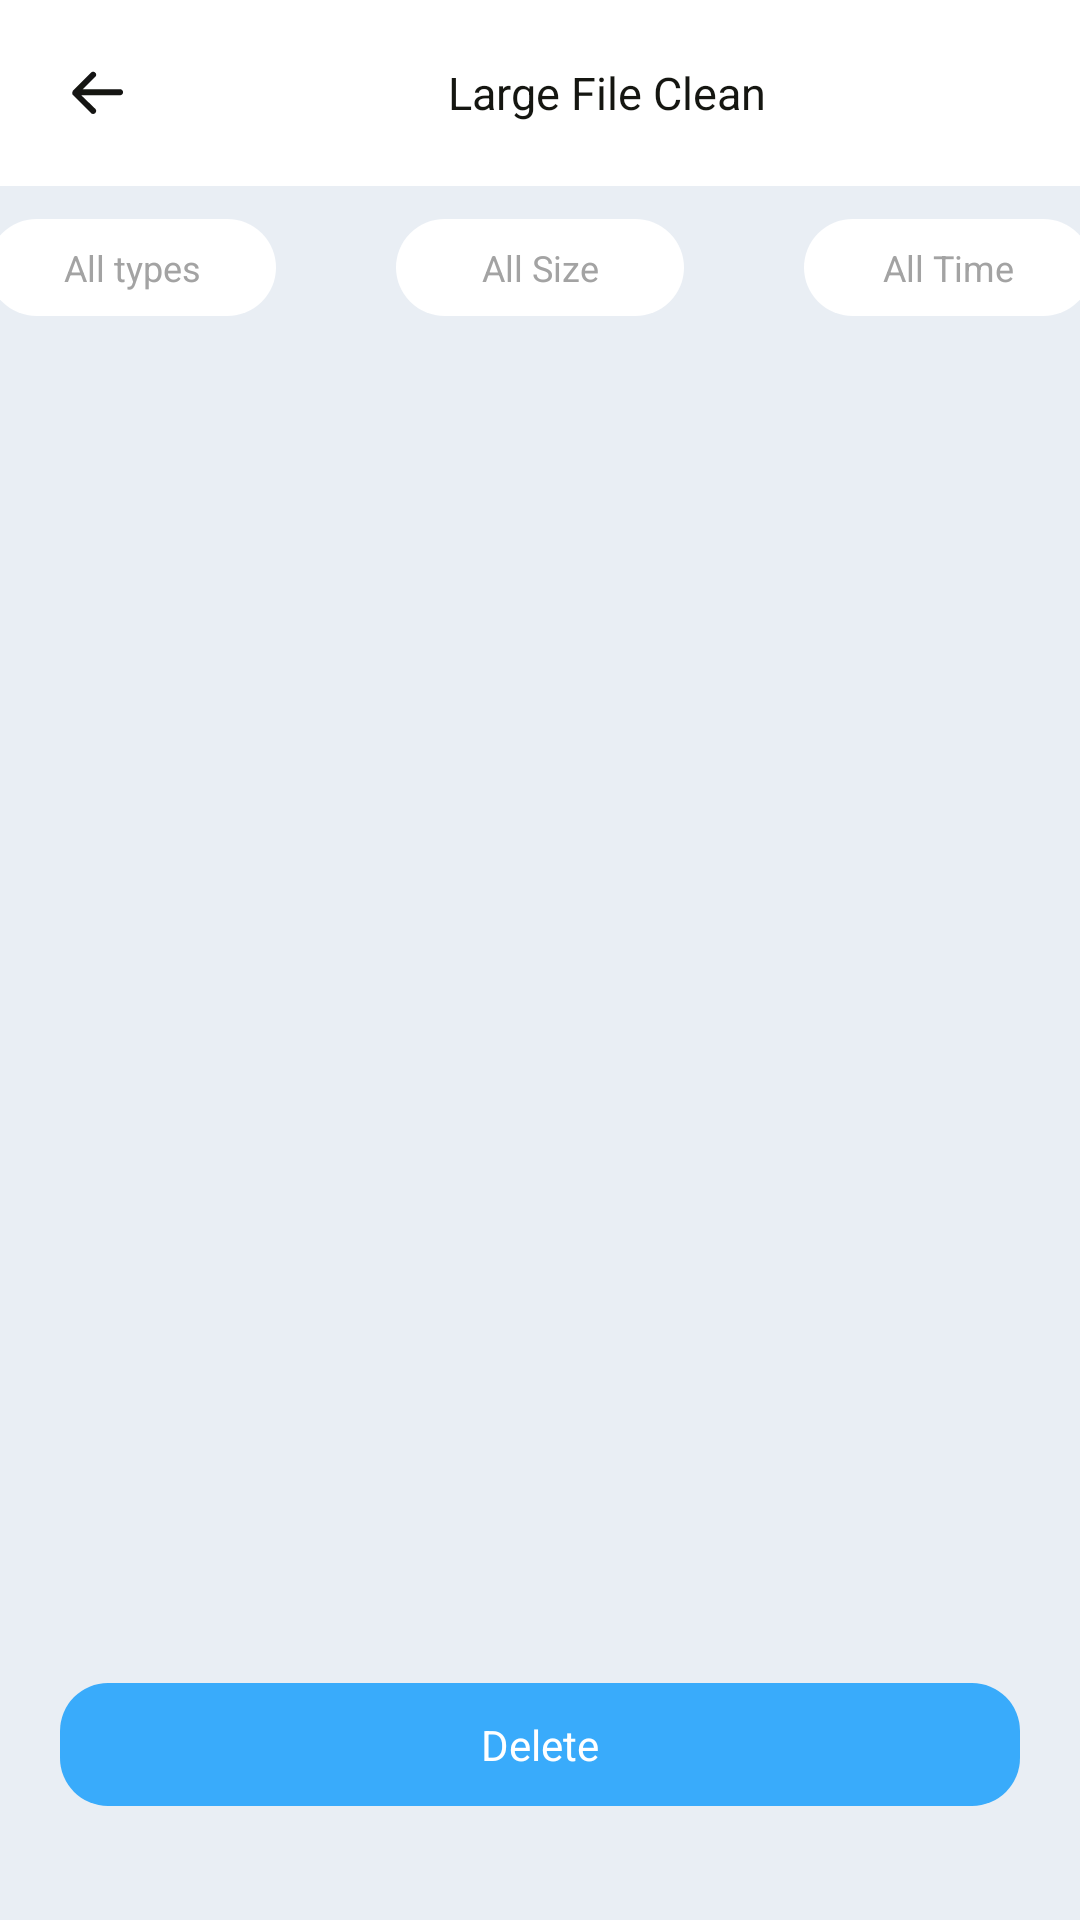

Where icons sit on this 1080px x 1920px app screen, as bbox=(x1, y1, x2, y2):
tui hei: bbox=(72, 71, 123, 114)
